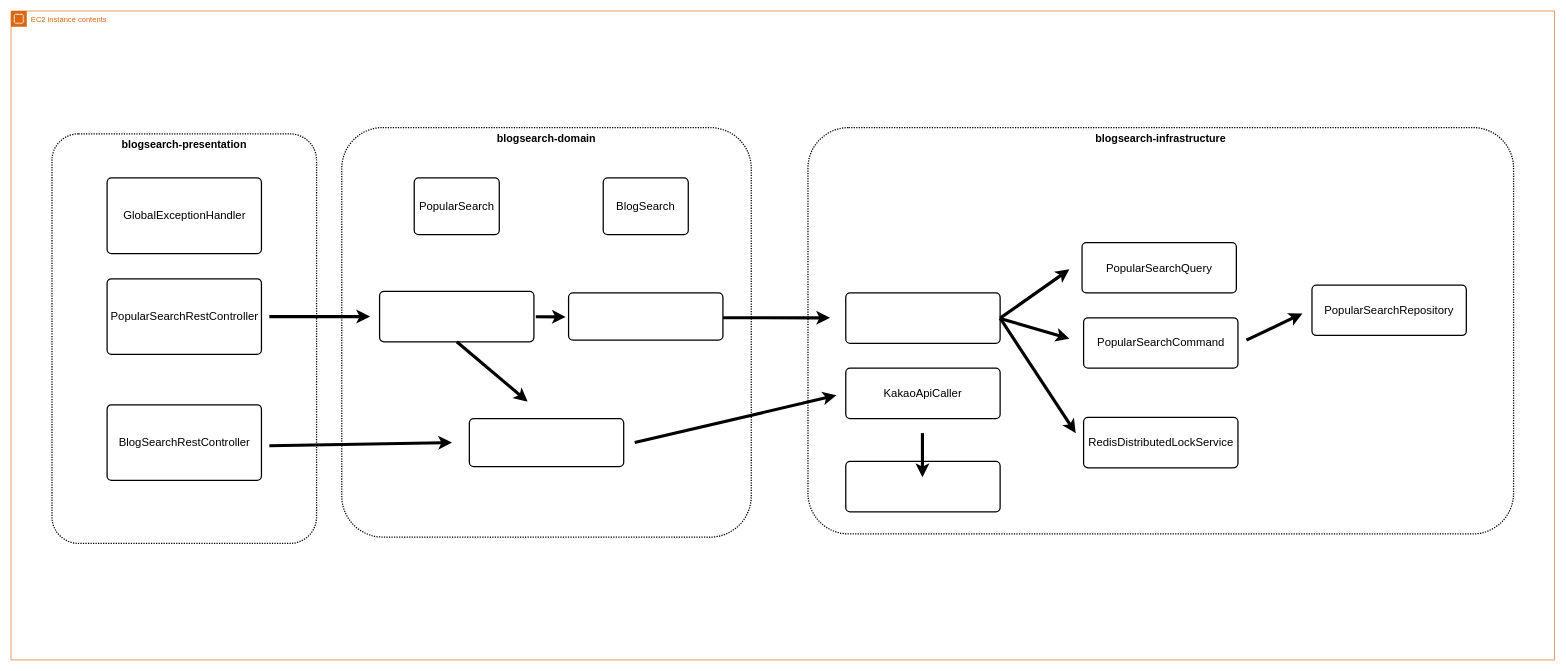
The diagram is 1566 pixels wide and 671 high, and some of its shapes have lost their labels. The centre of each missing label's shape, as x and y in pixels:
"BlogSearchPopularFacade" belongs at (456,316).
"BlogSearchService" belongs at (546,442).
"circuit breaker" belongs at (922,486).
"PopularSearchFacade" belongs at (922,318).
"PopularSearchService" belongs at (645,316).
